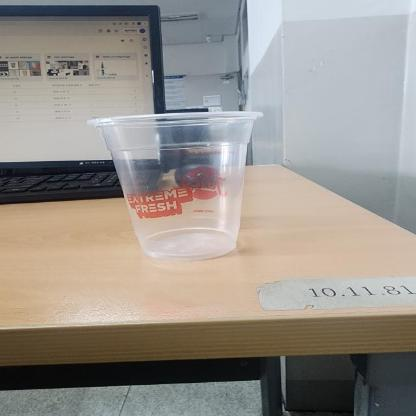Plastic Cup: (86, 110, 266, 260)
